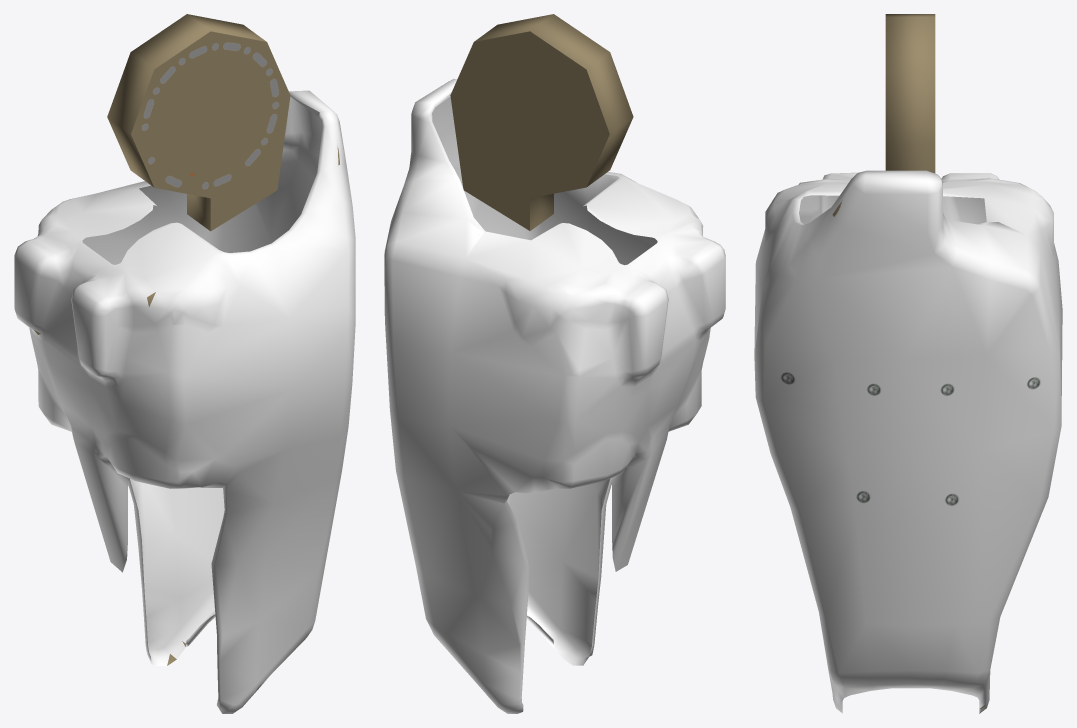
Rendered from lj4_left.dae.
3 renders of one model, left to right at view 1: azimuth 30°, elevation 25°; view 2: azimuth 150°, elevation 25°; view 3: azimuth 270°, elevation 25°, orthographic. The views are drawn at different scales.
Parts seen in each view (by area): view 1: Cylinder_001; view 2: Cylinder_001; view 3: Cylinder_001.
Boxes of the visible parts, left/top/right/bottom form: Cylinder_001: left=14, top=14, right=355, bottom=713; Cylinder_001: left=384, top=14, right=725, bottom=713; Cylinder_001: left=754, top=14, right=1062, bottom=713.
Bounding box in the file's own units: 0.1865 × 0.1791 × 0.4459.
Materials: 1 (1 with a texture image).
